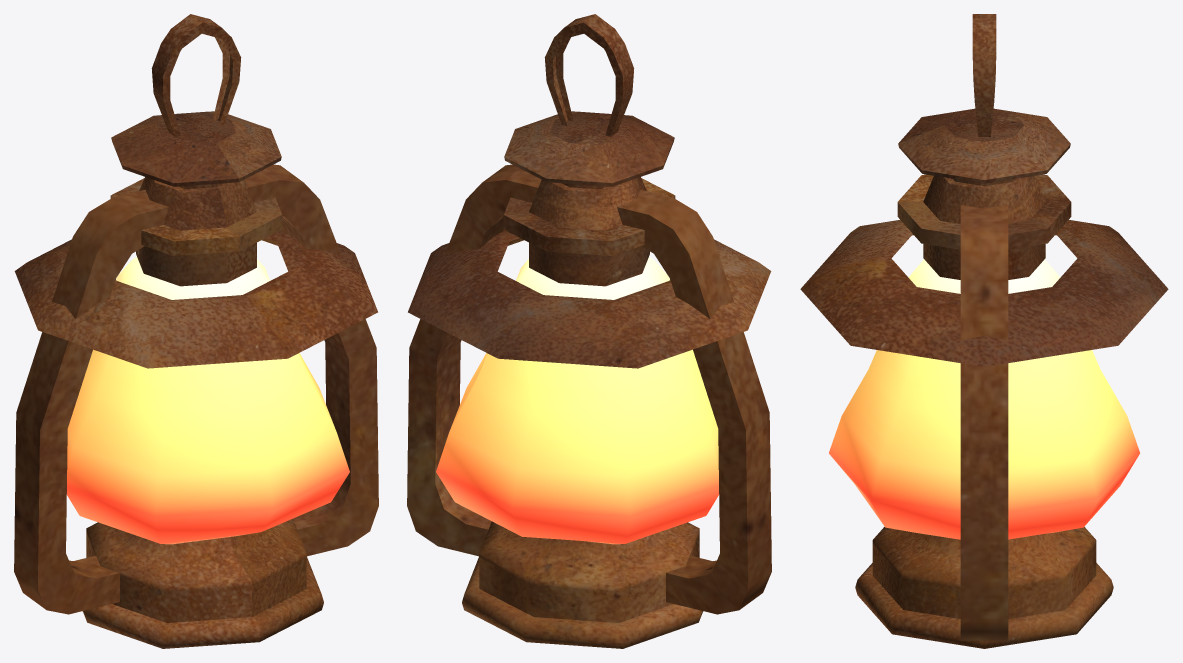
The model's file is LanternaO.fbx.
3 renders of one model, left to right at view 1: azimuth 30°, elevation 25°; view 2: azimuth 150°, elevation 25°; view 3: azimuth 270°, elevation 25°, orthographic.
Parts seen in each view (by area): view 1: LaparinaOcidental; view 2: LaparinaOcidental; view 3: LaparinaOcidental.
Boxes of the visible parts, <box> form: LaparinaOcidental: <box>14,14,378,648</box>; LaparinaOcidental: <box>407,14,771,648</box>; LaparinaOcidental: <box>800,14,1168,648</box>.
Bounding box in the file's own units: 38.11 × 62.09 × 35.42.
